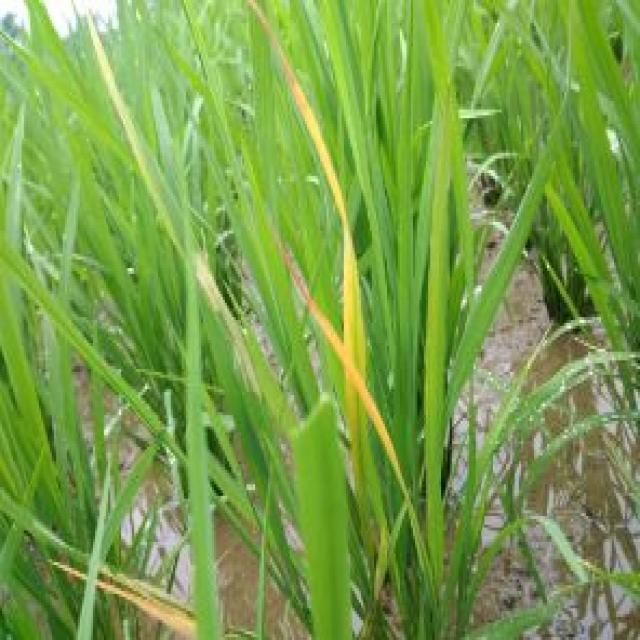Tungro: (78, 13, 226, 372), (268, 16, 382, 460), (333, 151, 368, 553), (47, 558, 199, 635)
